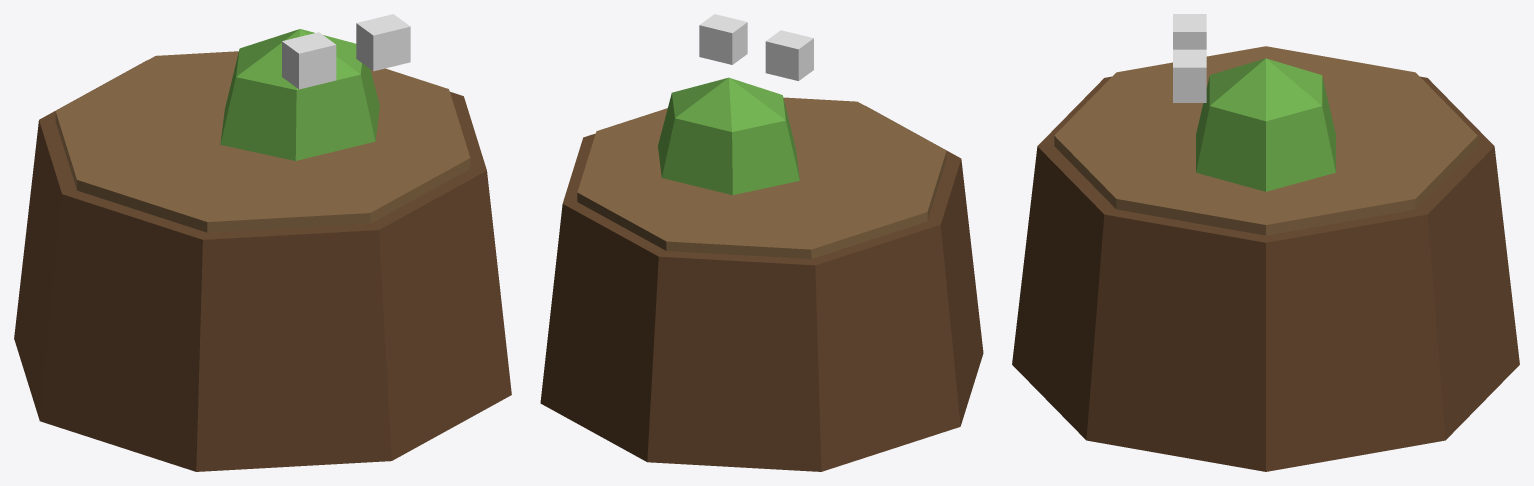
File: env_r6_swamp_stump.glb
3 renders of one model, left to right at view 1: azimuth 30°, elevation 25°; view 2: azimuth 150°, elevation 25°; view 3: azimuth 270°, elevation 25°, orthographic. The views are drawn at different scales.
Parts seen in each view (by area): view 1: env_r6_swamp_stump; view 2: env_r6_swamp_stump; view 3: env_r6_swamp_stump.
Part boxes in pixels (x1,y1,x2,y2): env_r6_swamp_stump: (14,14,511,471); env_r6_swamp_stump: (540,14,983,471); env_r6_swamp_stump: (1012,14,1519,471).
Size of the model in its own units: 1.2 by 0.9 by 1.2.
Materials: 1 (1 with a texture image).
